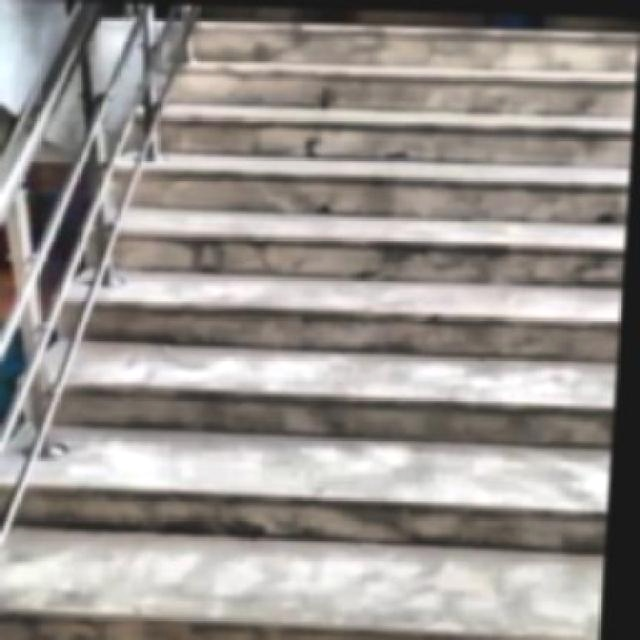stair: (63, 3, 639, 639)
